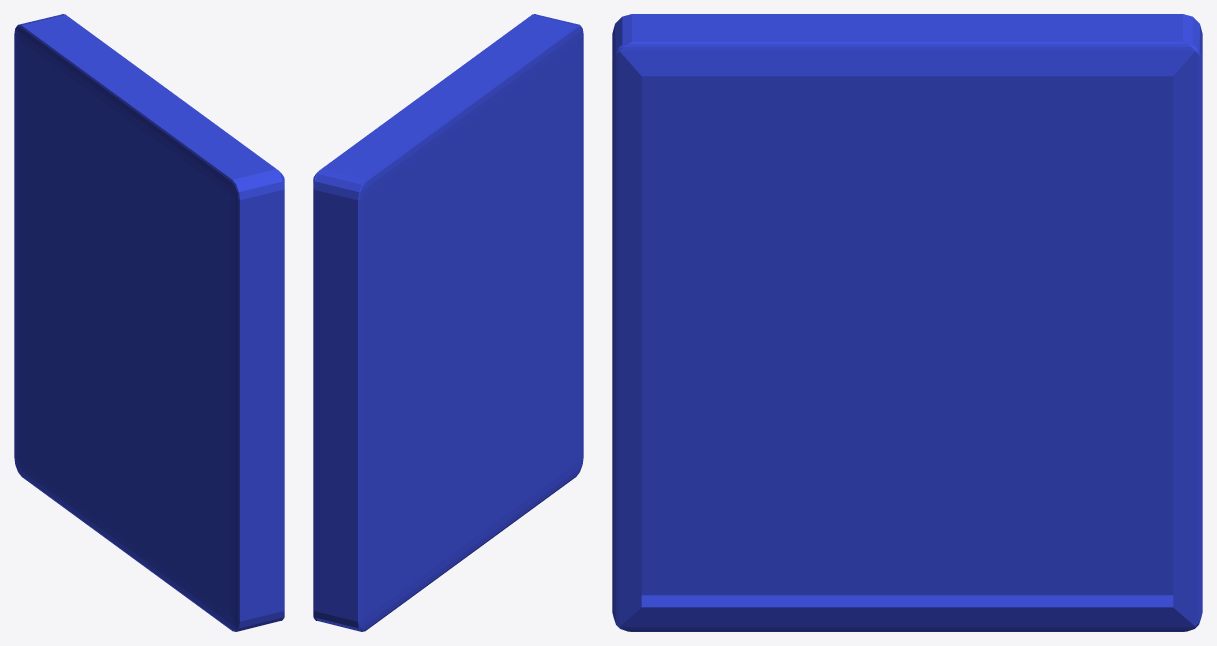
Rendered from ball-obstacle_1.fbx.
3 views of the same model, side by side, from view 1: azimuth 30°, elevation 25°; view 2: azimuth 150°, elevation 25°; view 3: azimuth 270°, elevation 25° (orthographic). The views are drawn at different scales.
Visible parts, largest first — view 1: ball-obstacle.001; view 2: ball-obstacle.001; view 3: ball-obstacle.001.
Part boxes in pixels (left/top/right/bottom): ball-obstacle.001: left=14, top=14, right=284, bottom=631; ball-obstacle.001: left=313, top=14, right=583, bottom=631; ball-obstacle.001: left=612, top=14, right=1202, bottom=631.
Bounding box in the file's own units: 16.41 × 133 × 121.
